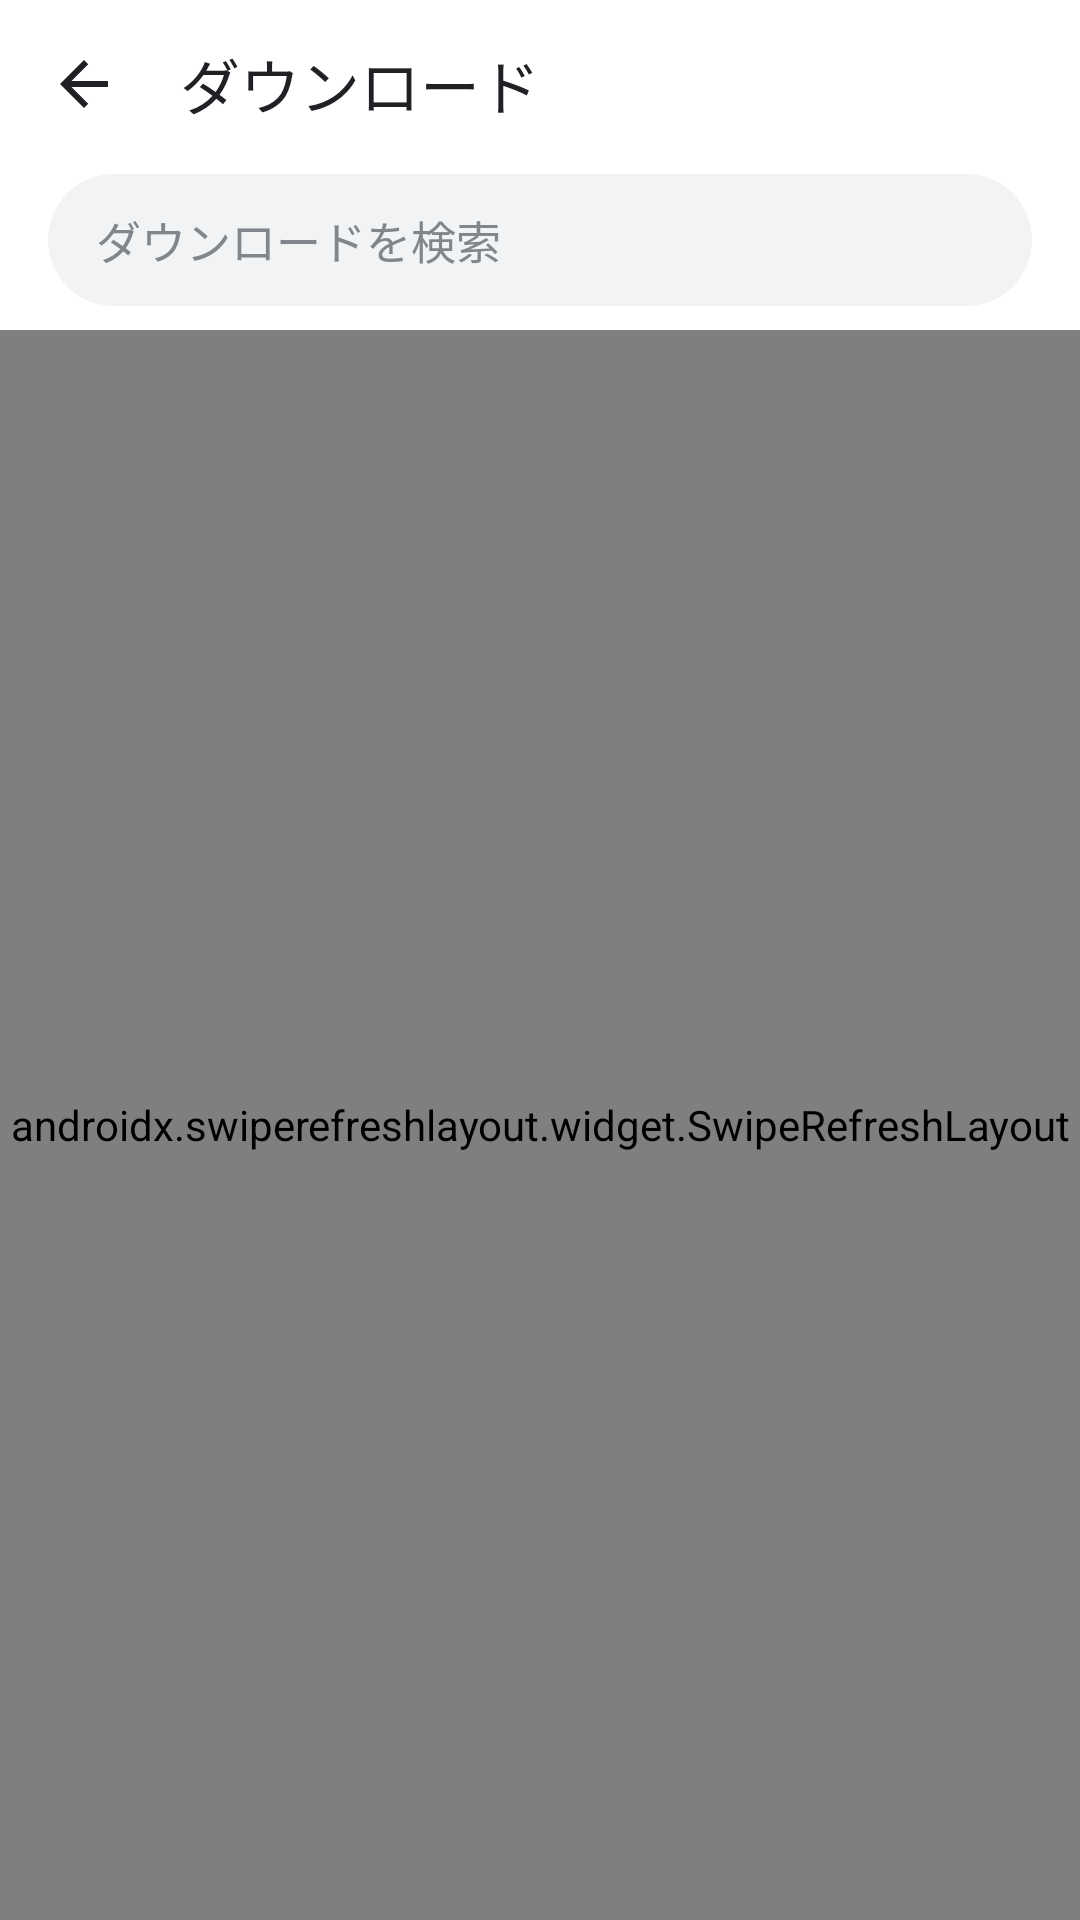

Where icons sit on this 1080px x 1920px app screen, as (x1, y1, x2, y2):
戻る: (60, 60, 108, 108)
